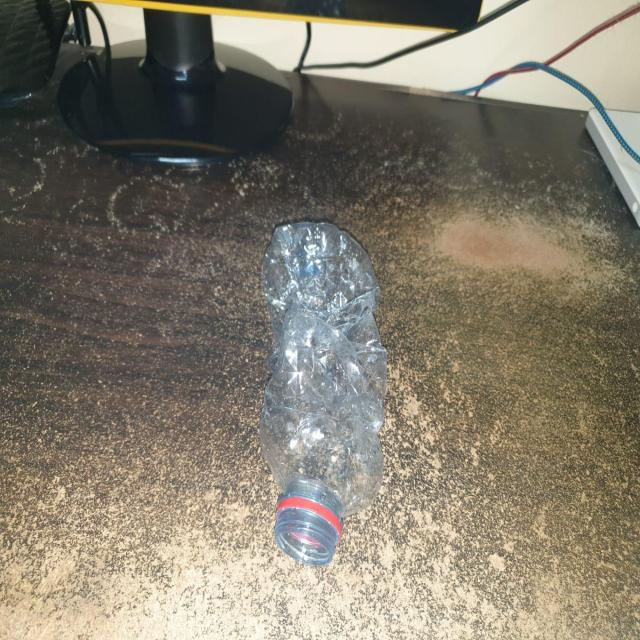bottle: (260, 216, 390, 561)
